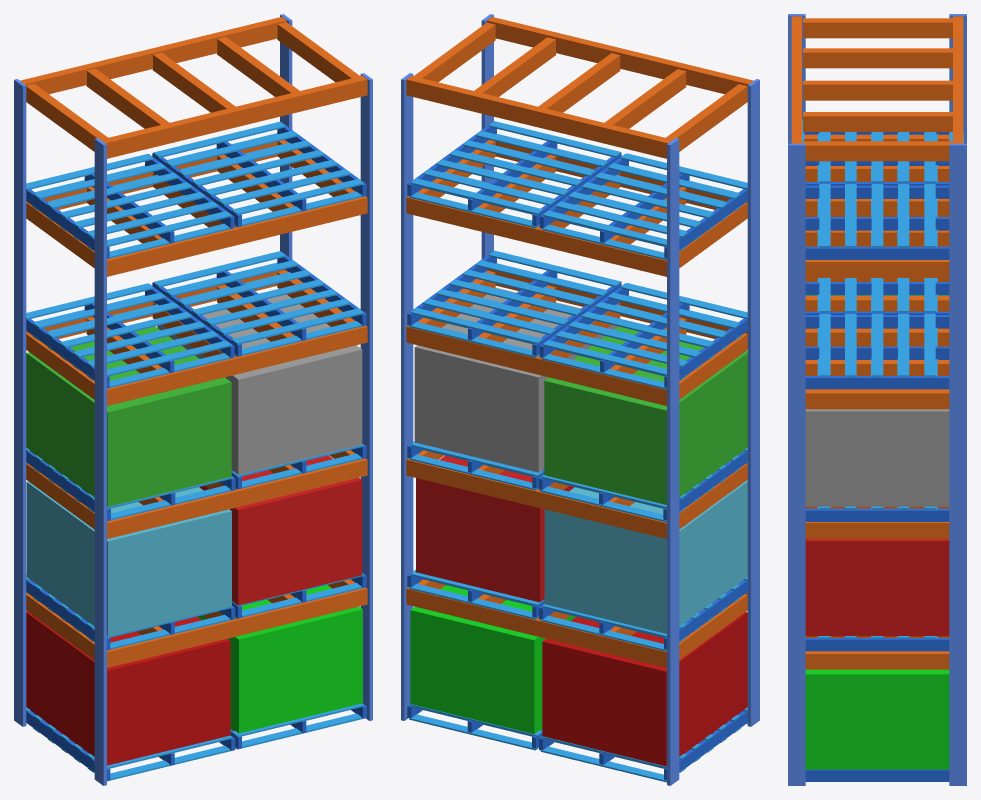
The model's file is mets4racks.glb.
3 renders of one model, left to right at view 1: azimuth 30°, elevation 25°; view 2: azimuth 150°, elevation 25°; view 3: azimuth 270°, elevation 25°, orthographic.
Visible parts, largest first — view 1: bars (×8), post (×4), Box6, Box4, Box2, Box5, Box1, Box3, barsH5 (×5), wood10_1 (×7), wood10 (×4), wood7 (×4) (+14 smaller); view 2: bars (×8), post (×4), Box6, Box2, Box4, Box5, Box1, Box3, barsH5 (×5), wood12 (×7), wood2 (×6), wood8 (×4) (+14 smaller); view 3: post (×4), Box1, Box5, Box3, barsH1 (×5), wood1 (×6), barsH3 (×3), barsH4 (×3), barsH2 (×3), wood3 (×4), barsH5 (×3), bars (×2) (+7 smaller).
Part boxes in pixels (bbox=[...]): bars (×8): bbox=[20, 17, 367, 667]; post (×4): bbox=[14, 14, 372, 785]; Box6: bbox=[26, 326, 231, 506]; Box4: bbox=[26, 481, 231, 636]; Box2: bbox=[26, 611, 230, 765]; Box5: bbox=[157, 294, 362, 474]; Box1: bbox=[197, 585, 362, 733]; Box3: bbox=[199, 455, 362, 605]; barsH5 (×5): bbox=[26, 83, 107, 660]; wood10_1 (×7): bbox=[109, 191, 362, 618]; wood10 (×4): bbox=[107, 179, 363, 376]; wood7 (×4): bbox=[60, 150, 324, 348]; bars (×8): bbox=[406, 17, 753, 667]; post (×4): bbox=[401, 14, 759, 785]; Box6: bbox=[544, 326, 747, 504]; Box2: bbox=[542, 612, 747, 766]; Box4: bbox=[544, 480, 747, 633]; Box5: bbox=[414, 287, 618, 472]; Box1: bbox=[410, 585, 575, 733]; Box3: bbox=[416, 455, 574, 602]; barsH5 (×5): bbox=[666, 84, 747, 660]; wood12 (×7): bbox=[409, 192, 666, 619]; wood2 (×6): bbox=[410, 178, 666, 606]; wood8 (×4): bbox=[462, 140, 727, 338]; post (×4): bbox=[788, 14, 966, 785]; Box1: bbox=[805, 669, 949, 769]; Box5: bbox=[805, 409, 949, 506]; Box3: bbox=[805, 539, 949, 636]; barsH1 (×5): bbox=[803, 141, 952, 669]; wood1 (×6): bbox=[805, 182, 949, 651]; barsH3 (×3): bbox=[803, 80, 952, 346]; barsH4 (×3): bbox=[803, 48, 952, 311]; barsH2 (×3): bbox=[803, 112, 952, 375]; wood3 (×4): bbox=[805, 161, 949, 359]; barsH5 (×3): bbox=[803, 18, 952, 281]; bars (×2): bbox=[791, 16, 963, 143].
Bounding box in the file's own units: 2.96 × 6.73 × 1.7.
